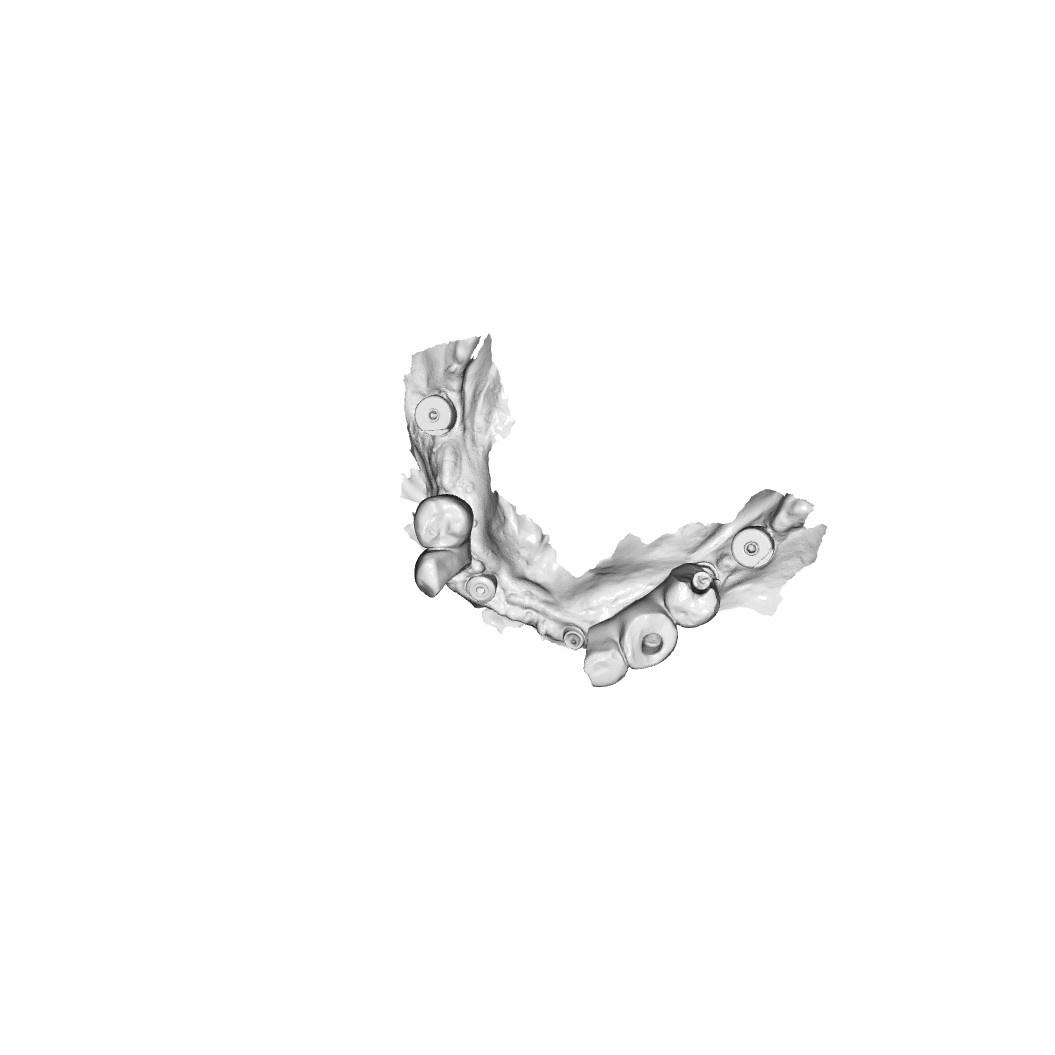canine: (583, 630, 627, 691), (412, 549, 465, 599)
implant: (412, 390, 459, 432), (733, 522, 773, 568), (465, 569, 500, 609), (558, 623, 588, 648)
premolar: (666, 563, 727, 628), (621, 605, 677, 672), (416, 494, 475, 547)
